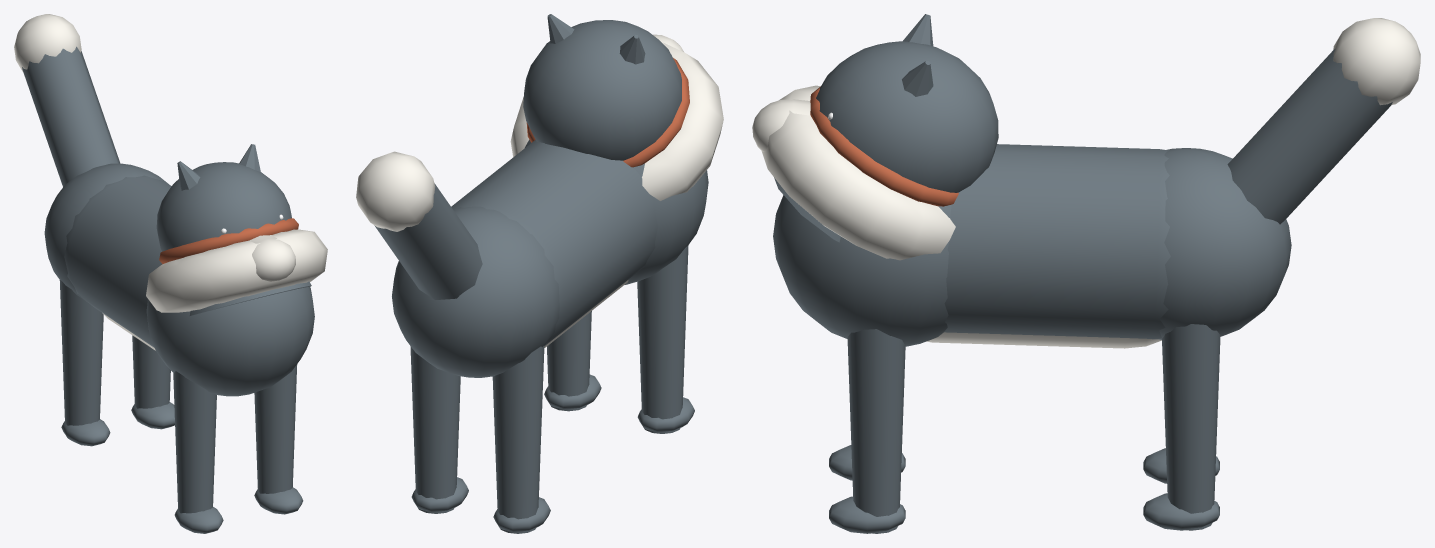
Rendered from h32-husky.glb.
3 renders of one model, left to right at view 1: azimuth 30°, elevation 25°; view 2: azimuth 150°, elevation 25°; view 3: azimuth 270°, elevation 25°, orthographic. The views are drawn at different scales.
Visible parts, largest first — view 1: Anjing Husky, head, neck; view 2: Anjing Husky, head, neck; view 3: Anjing Husky, head, neck.
Part boxes in pixels (x1,y1,x2,y2): Anjing Husky: (14, 14, 314, 533); head: (156, 144, 295, 281); neck: (146, 218, 327, 315); Anjing Husky: (356, 139, 708, 533); head: (523, 14, 683, 160); neck: (510, 42, 723, 200); Anjing Husky: (773, 18, 1420, 533); head: (752, 14, 998, 192); neck: (761, 85, 958, 260).
Bounding box in the file's own units: 0.36 × 0.7617 × 0.9592.
